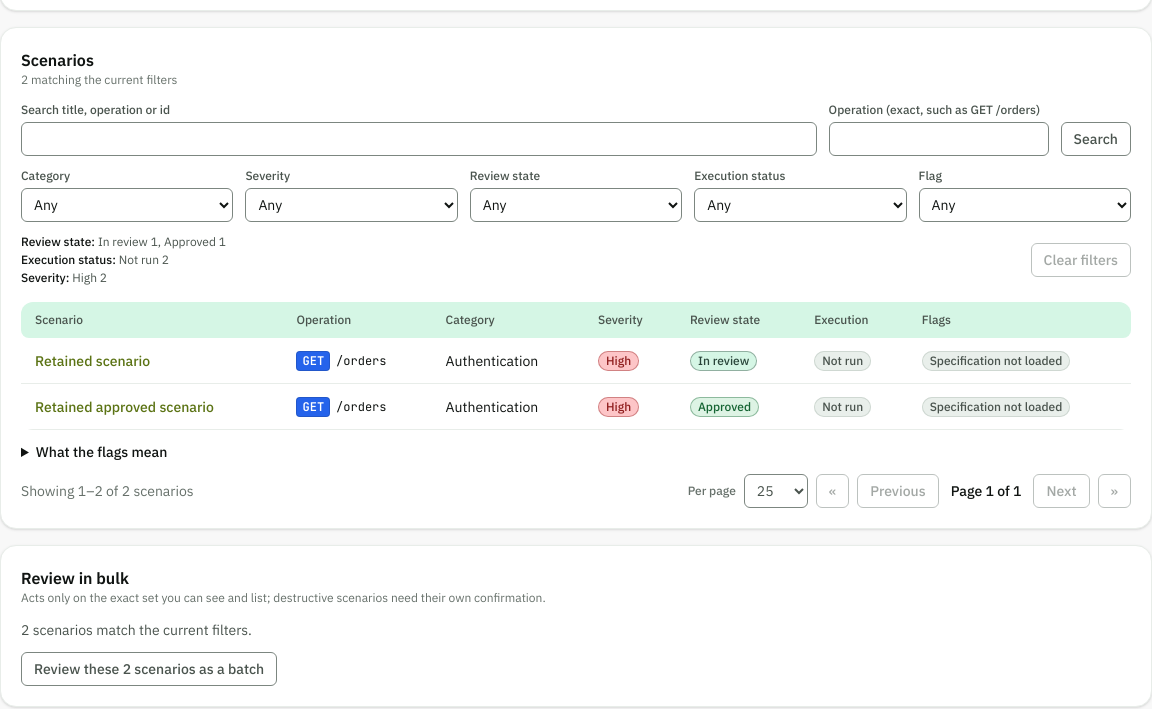
Test case: Security Lab with no specification loaded (T136, FR-004, FR-051) › Scenarios › reads a retained scenario in full, and disables submit and approve with the reason while leaving reject and withdraw
The width and height of the screenshot is (1152, 709).
(page scrolled)
Click the button "Retained scenario": point(93, 360) [35,350,150,370]
(page scrolled)
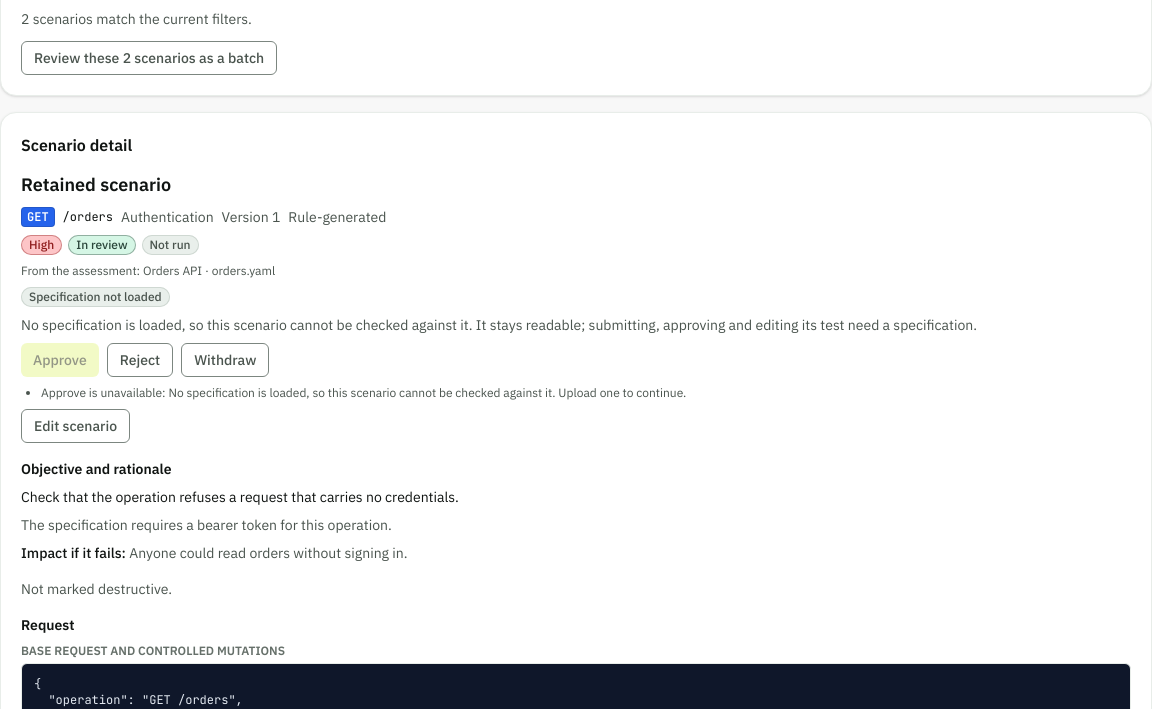
Now the heading "Retained scenario" is shown, box [21,173,171,196]
Now the list named "Why this scenario is flagged" shows "It stays readable", box [21,316,977,334]
Now the button "Approve" is disabled, box [21,343,99,377]
